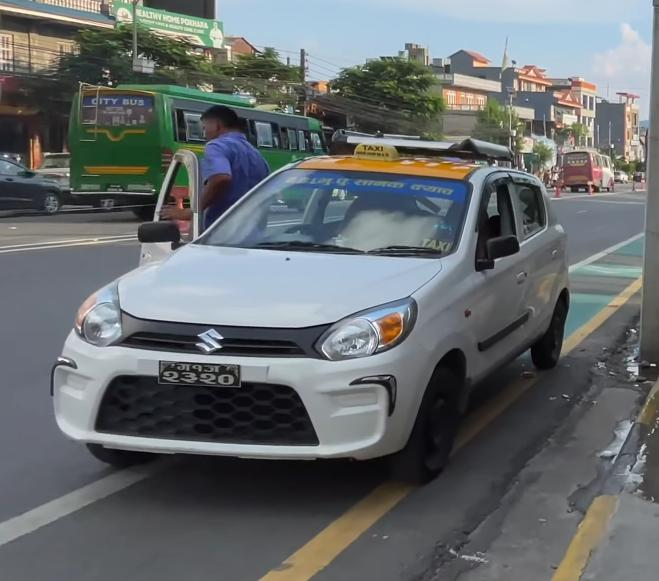bus: (59, 79, 336, 212), (558, 147, 618, 195)
car: (0, 154, 63, 218)
taxi: (35, 127, 598, 494)
